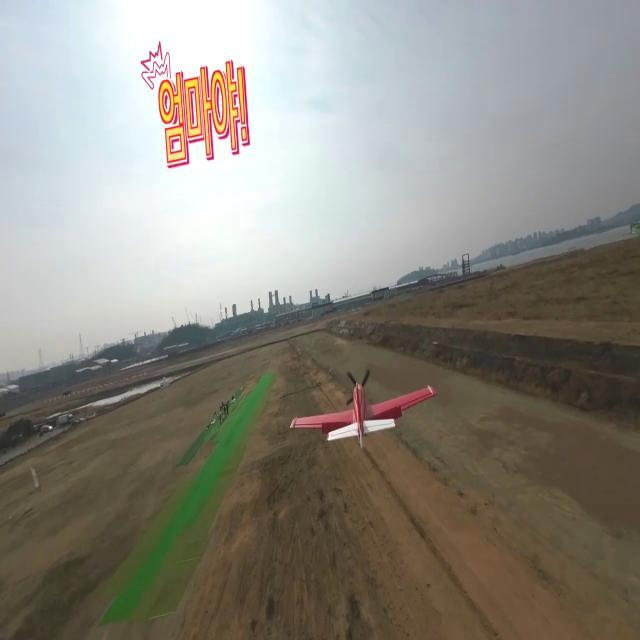iha: (289, 398, 439, 418)
